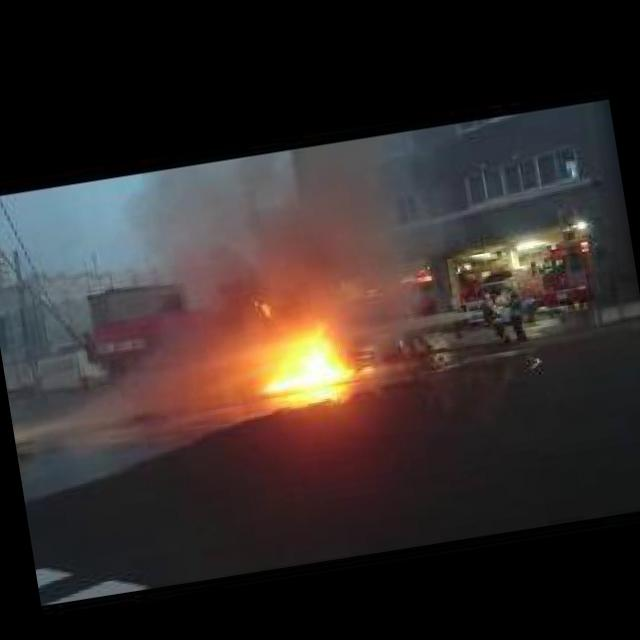fire: (252, 334, 348, 395), (358, 365, 377, 375)
smoke: (120, 133, 438, 353)
